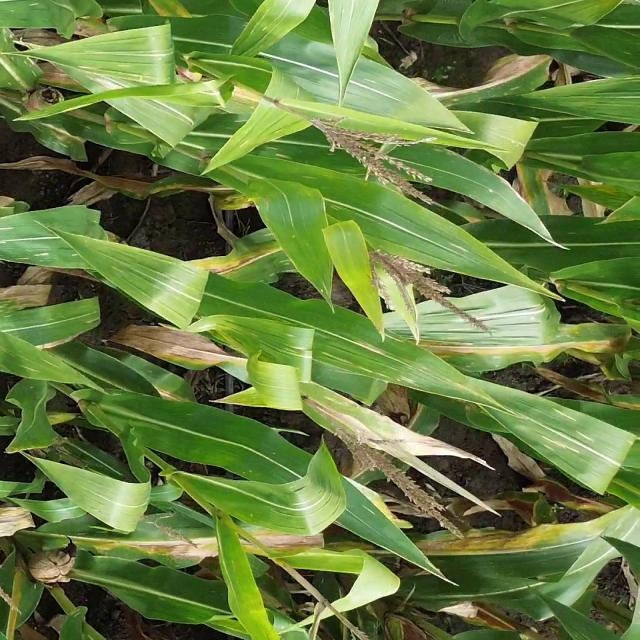gray-leaf-spot: (319, 331, 432, 384), (1, 216, 90, 266), (529, 401, 596, 457), (228, 117, 307, 162), (73, 43, 162, 74), (0, 31, 41, 87), (1, 339, 62, 376), (16, 117, 78, 151), (355, 70, 402, 111), (0, 299, 52, 330), (253, 0, 291, 38)
northern-leaf-blight: (430, 328, 590, 368), (93, 523, 256, 562), (414, 530, 550, 570), (198, 238, 280, 283), (134, 367, 187, 404)
